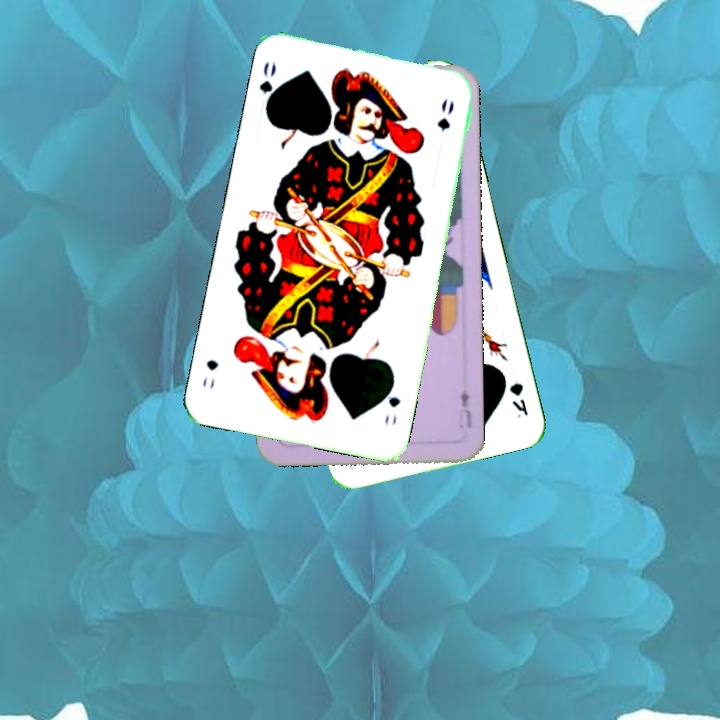EU: (453, 385, 474, 431)
GK: (505, 377, 531, 420)
GO: (255, 57, 283, 115), (380, 376, 403, 427)
